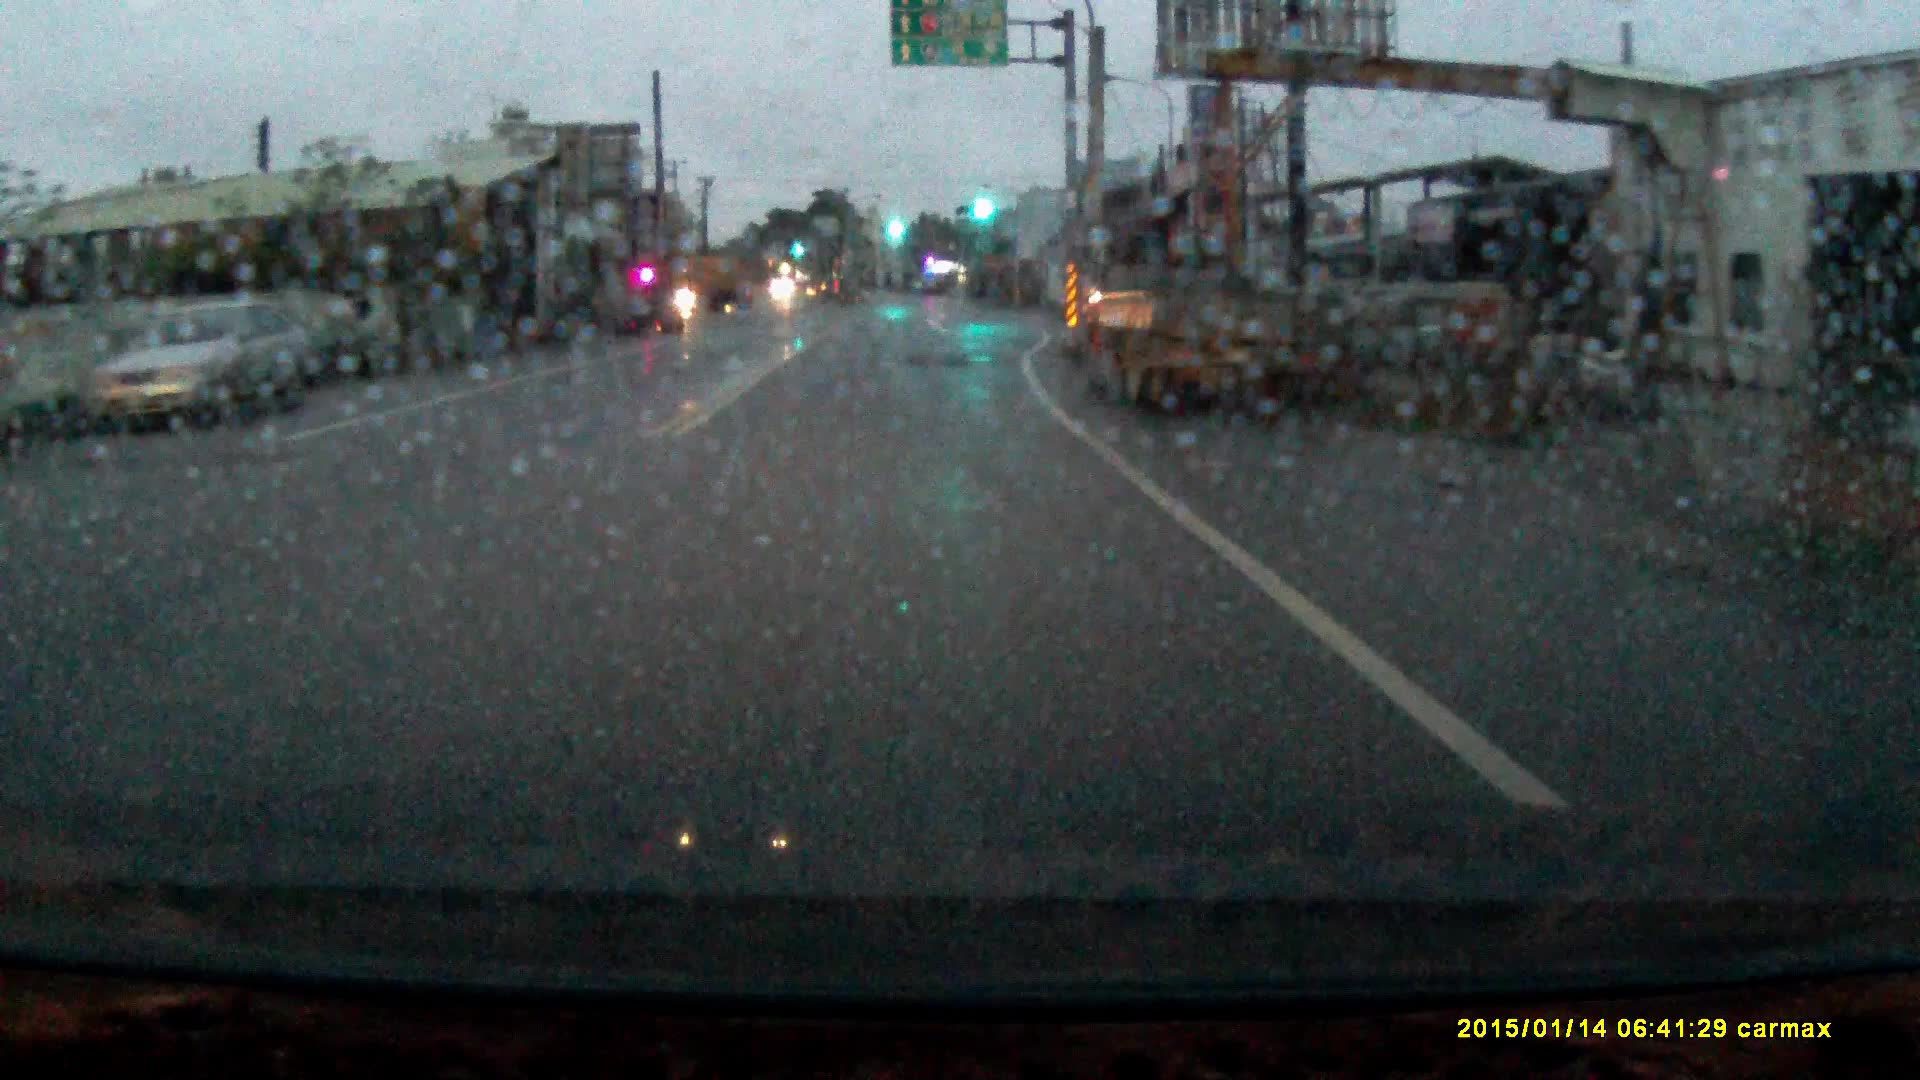vehicle: (1076, 229, 1327, 430), (96, 305, 309, 436), (667, 258, 756, 320)
